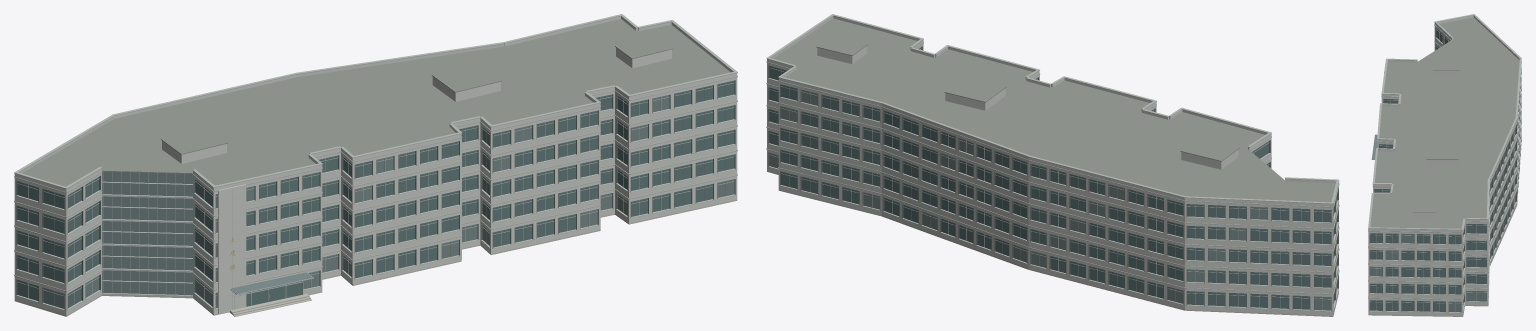
File: north_teaching5.glb
The picture shows the model from 3 angles, left to right: view 1: azimuth 30°, elevation 25°; view 2: azimuth 150°, elevation 25°; view 3: azimuth 270°, elevation 25°; orthographic projection. The views are drawn at different scales.
Parts seen in each view (by area): view 1: Teaching5_Teaching5IvoryTile, Teaching5_FacultyRoof, Teaching5_WindowGlass, Teaching5_WindowGlassLight, Teaching5_WindowAluminium, Teaching5_Teaching5TileJoint, Teaching5_WindowReveal, Teaching5_EntryStone; view 2: Teaching5_Teaching5IvoryTile, Teaching5_FacultyRoof, Teaching5_WindowGlass, Teaching5_WindowAluminium, Teaching5_Teaching5TileJoint, Teaching5_WindowReveal, Teaching5_WindowGlassLight, Teaching5_EntryStone; view 3: Teaching5_FacultyRoof, Teaching5_Teaching5IvoryTile, Teaching5_WindowGlass, Teaching5_Teaching5TileJoint, Teaching5_WindowAluminium, Teaching5_WindowReveal, Teaching5_WindowGlassLight, Teaching5_EntryStone.
Part boxes in pixels (<box>): Teaching5_Teaching5IvoryTile: <box>14,16,737,315</box>; Teaching5_FacultyRoof: <box>22,19,730,186</box>; Teaching5_WindowGlass: <box>17,80,734,308</box>; Teaching5_WindowGlassLight: <box>43,95,734,308</box>; Teaching5_WindowAluminium: <box>16,82,735,310</box>; Teaching5_Teaching5TileJoint: <box>14,14,737,309</box>; Teaching5_WindowReveal: <box>16,80,735,309</box>; Teaching5_EntryStone: <box>14,200,737,316</box>; Teaching5_Teaching5IvoryTile: <box>767,16,1338,315</box>; Teaching5_FacultyRoof: <box>773,18,1335,202</box>; Teaching5_WindowGlass: <box>769,47,1337,309</box>; Teaching5_WindowAluminium: <box>768,48,1338,311</box>; Teaching5_Teaching5TileJoint: <box>766,14,1339,294</box>; Teaching5_WindowReveal: <box>768,46,1338,311</box>; Teaching5_WindowGlassLight: <box>769,90,1337,310</box>; Teaching5_EntryStone: <box>767,171,1338,316</box>; Teaching5_FacultyRoof: <box>1370,17,1519,228</box>; Teaching5_Teaching5IvoryTile: <box>1368,15,1521,316</box>; Teaching5_WindowGlass: <box>1370,29,1515,311</box>; Teaching5_Teaching5TileJoint: <box>1368,14,1521,299</box>; Teaching5_WindowAluminium: <box>1370,29,1521,312</box>; Teaching5_WindowReveal: <box>1369,28,1521,311</box>; Teaching5_WindowGlassLight: <box>1370,134,1515,312</box>; Teaching5_EntryStone: <box>1368,173,1519,316</box>.
Bounding box in the file's own units: 115 × 22.98 × 34.66.
